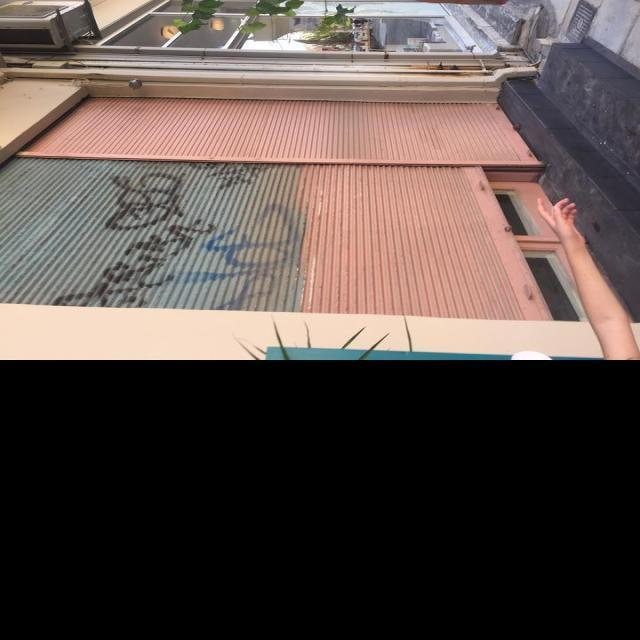nonspitting: (57, 169, 217, 306), (167, 202, 300, 310), (192, 162, 262, 187)
